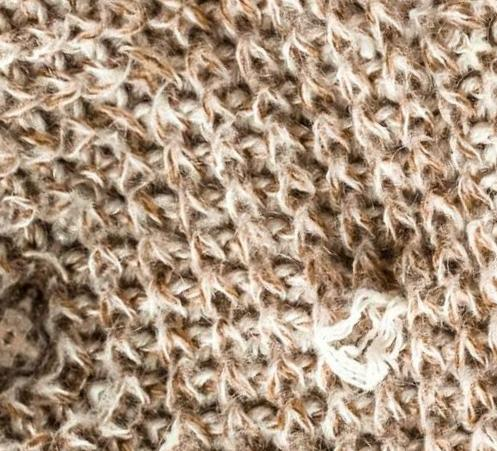snag: (291, 290, 423, 402)
